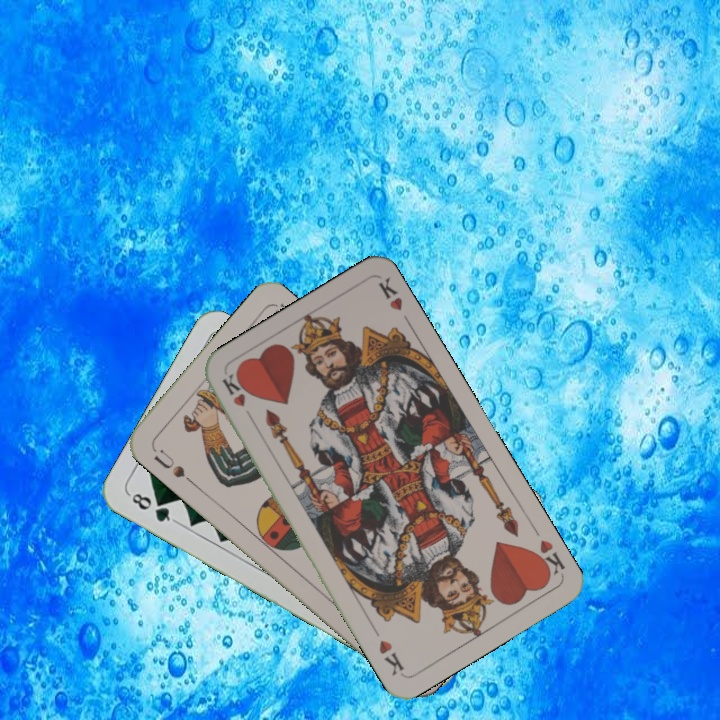G8: (125, 489, 179, 525)
HK: (217, 370, 258, 426), (528, 535, 568, 583)
SU: (148, 444, 197, 488)
